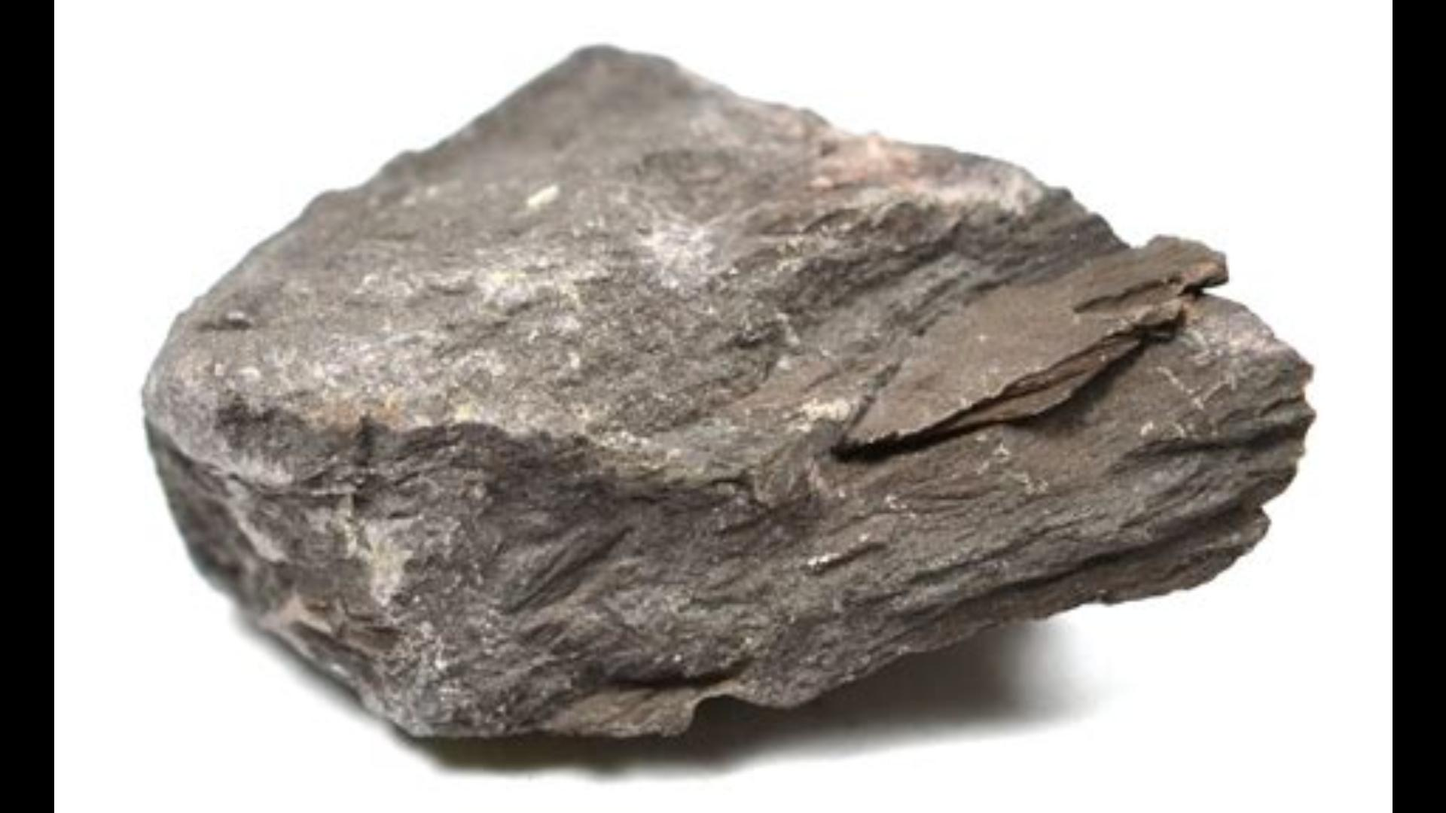rock: (144, 48, 1310, 737)
